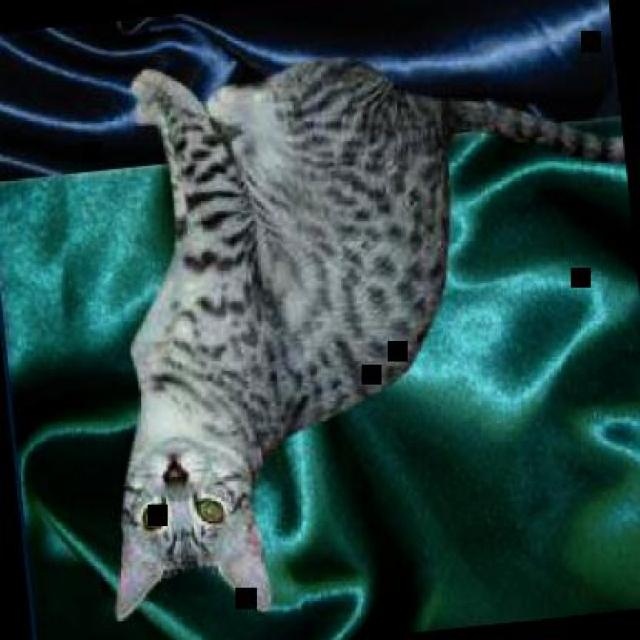cat: (59, 20, 638, 629)
